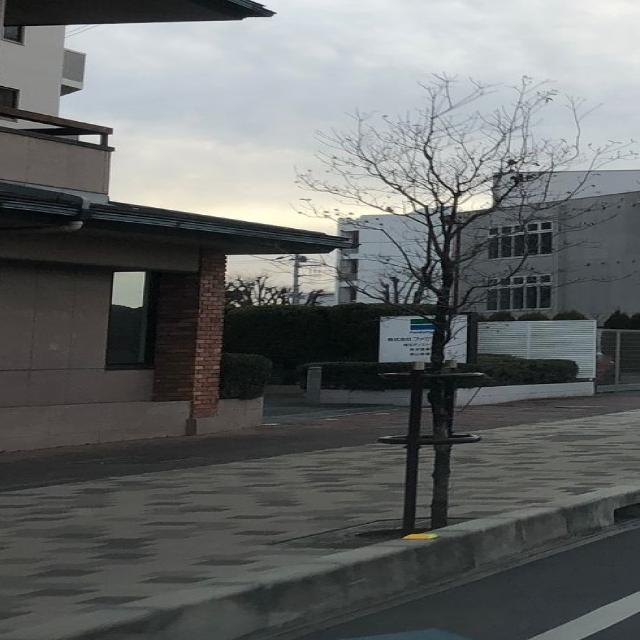dogwood: (248, 70, 638, 530)
